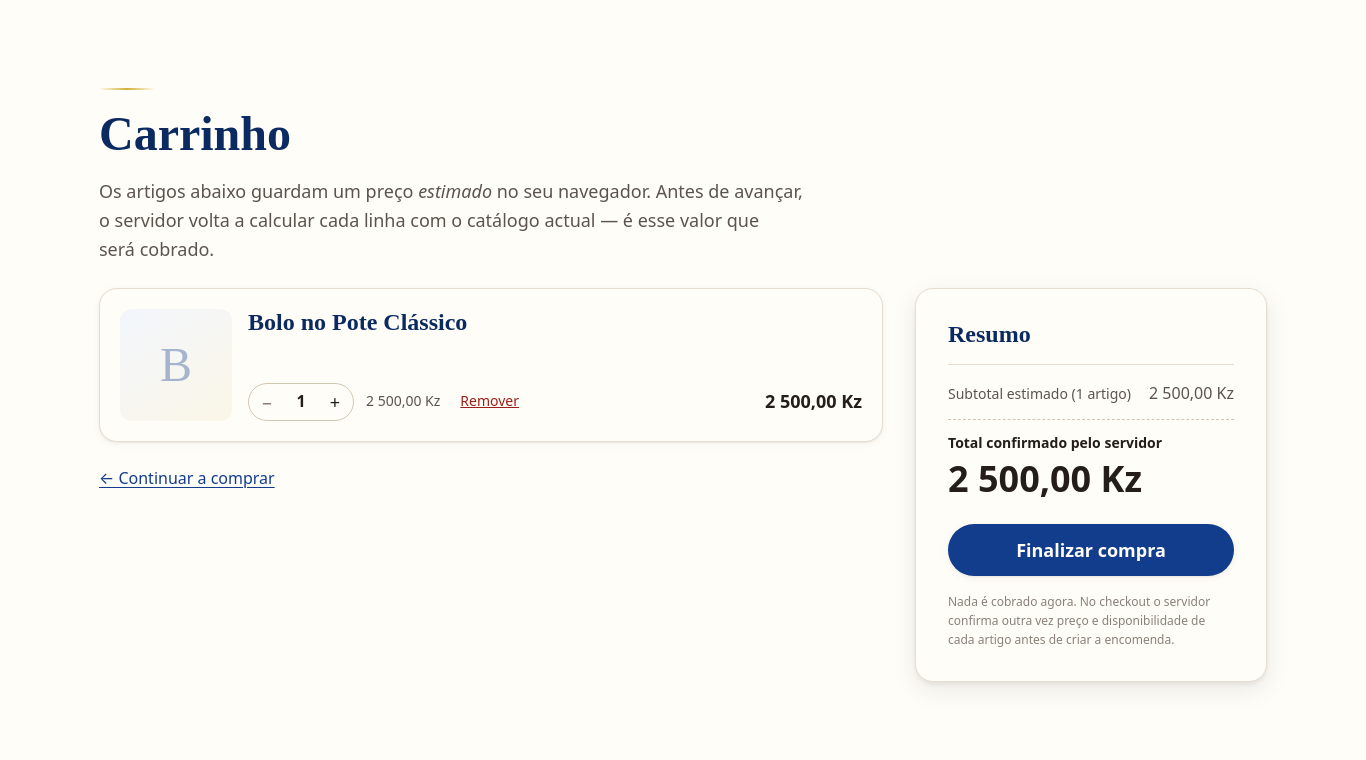
Test case: CartPage › aumentar quantidade reenvia a nova quantidade para o servidor
The width and height of the screenshot is (1366, 760).
expect the button "Finalizar compra" is shown: met, box [948,524,1234,576]
Click the button named "Aumentar quantidade de Bolo no Pote Clássico" at (335, 402), box [317,384,353,420]
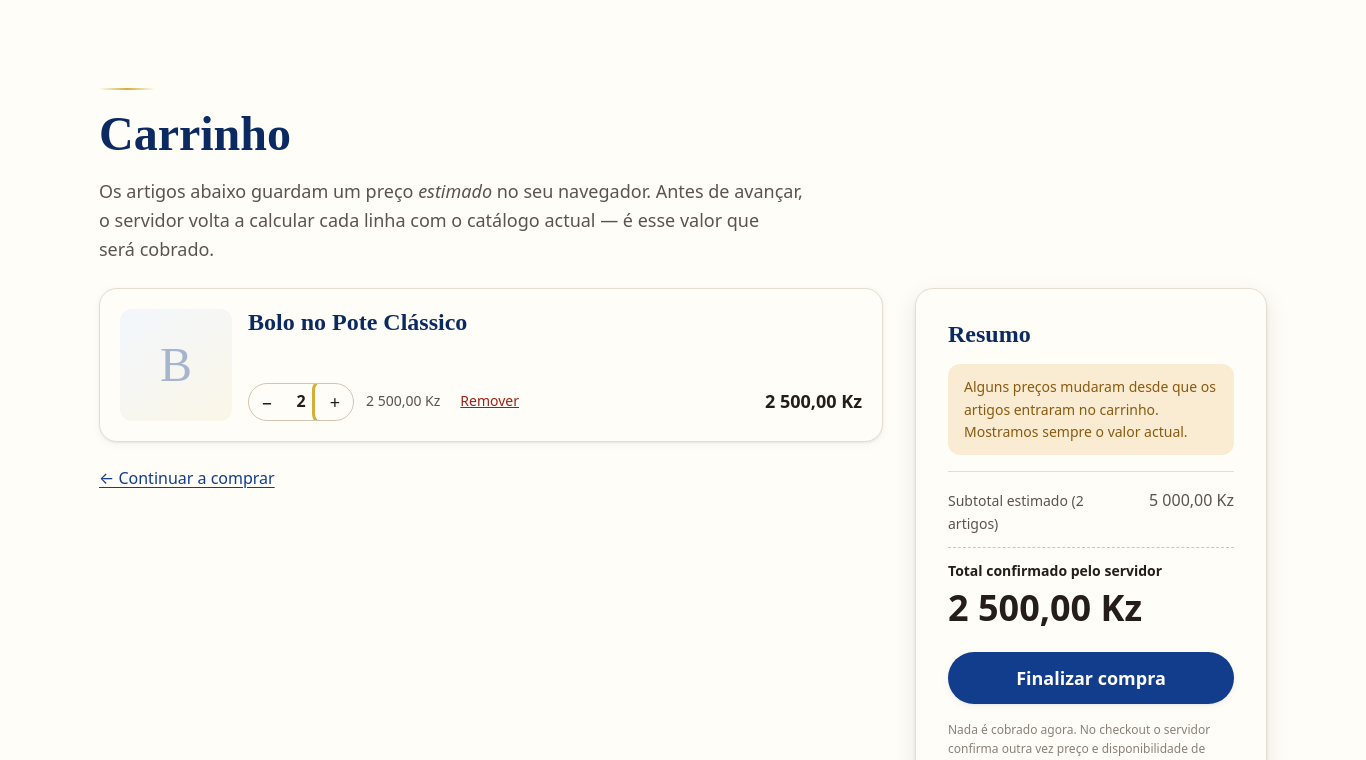
expect the element named "Quantidade de Bolo no Pote Clássico" shows "2": met, box [296,390,306,412]
